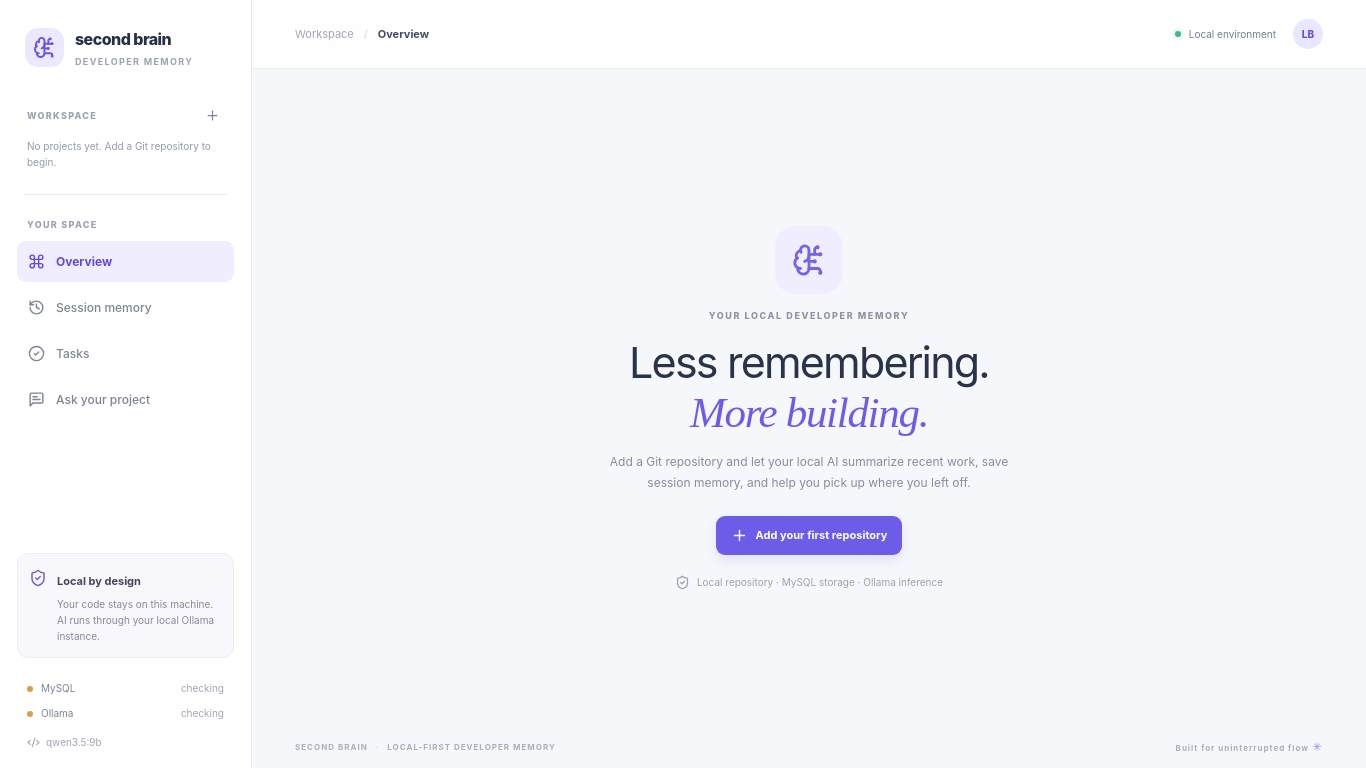
Test: App › shows the onboarding screen when no projects are registered
This screenshot has width=1366, height=768.
Expected: the heading "Less remembering.More building." is shown, [629, 338, 989, 438]
Step 1. Click the button "Add your first repository" → (809, 535), box [716, 516, 902, 555]
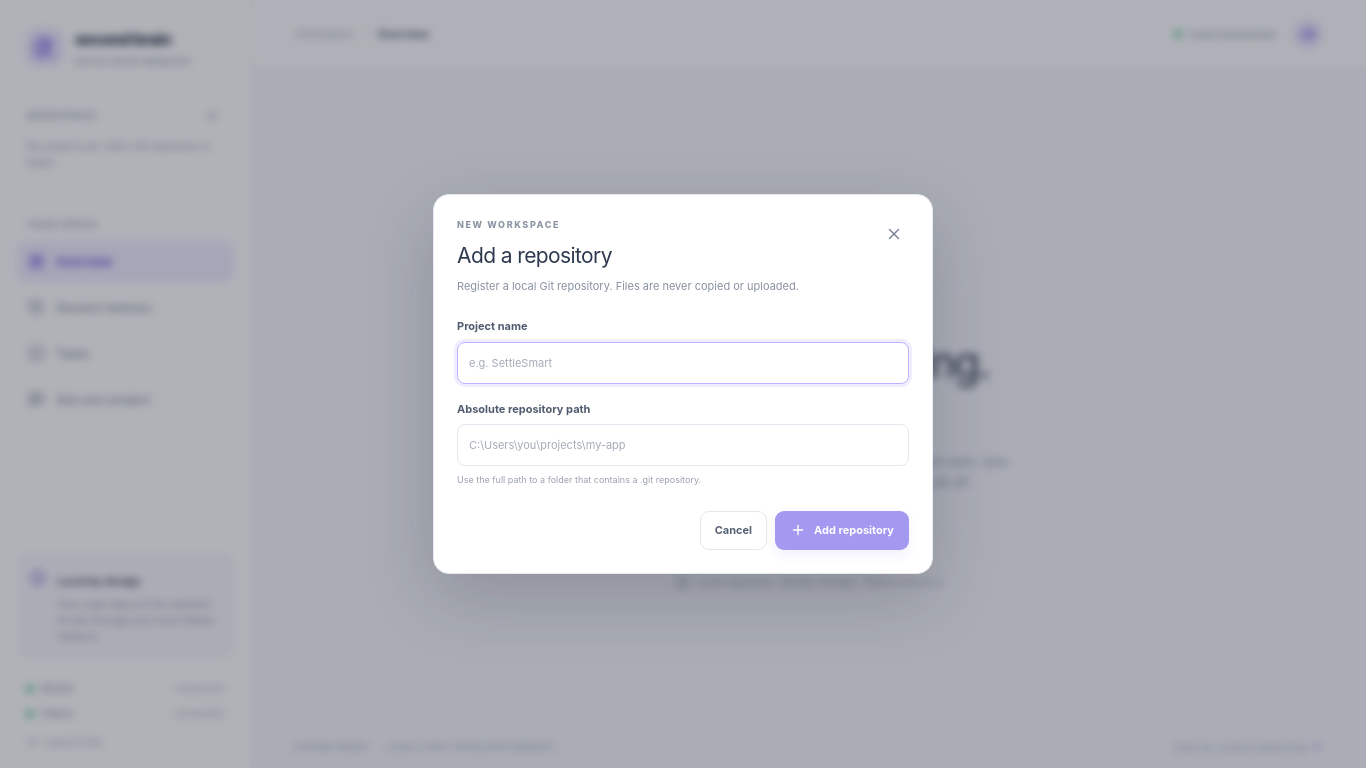
Now the dialog is shown, box [433, 194, 933, 574]
Now the field labelled "Project name" is shown, box [457, 342, 909, 384]
